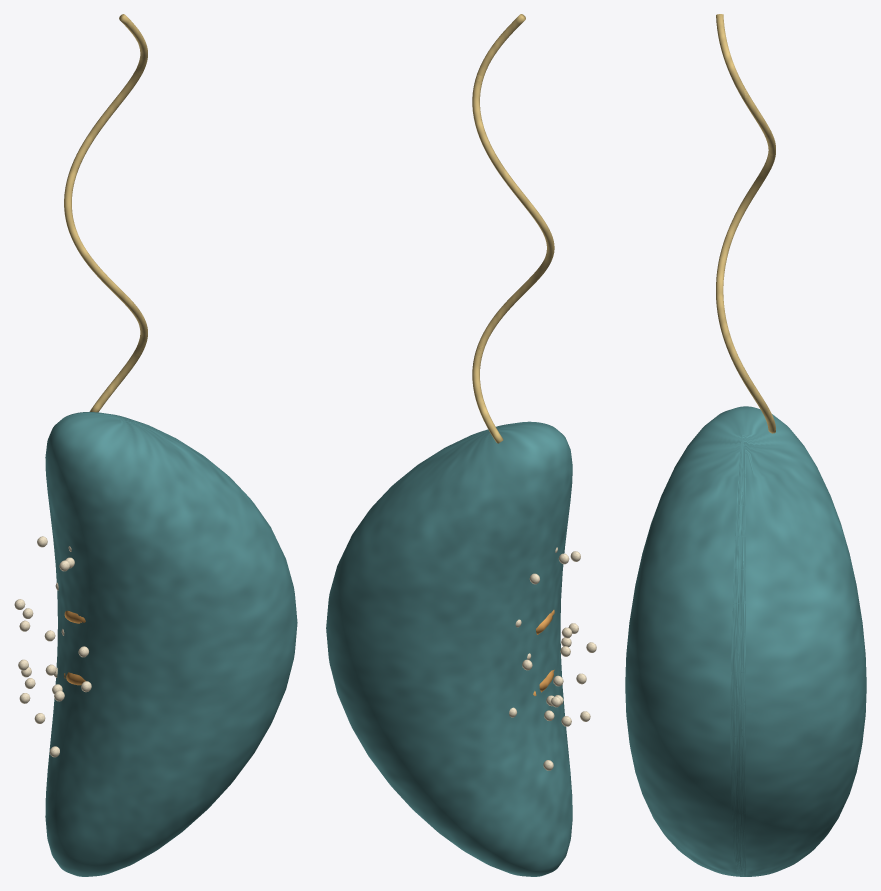
Rendered from complete.glb.
The picture shows the model from 3 angles, left to right: view 1: azimuth 30°, elevation 25°; view 2: azimuth 150°, elevation 25°; view 3: azimuth 270°, elevation 25°; orthographic projection. The views are drawn at different scales.
Parts seen in each view (by area): view 1: externa_mesh, flagelo_mesh, ribossomos_mesh; view 2: externa_mesh, flagelo_mesh, ribossomos_mesh; view 3: externa_mesh, flagelo_mesh.
Boxes of the visible parts, box(x1,y1,x2,y2) form: externa_mesh: box(45, 411, 297, 876); flagelo_mesh: box(64, 14, 147, 412); ribossomos_mesh: box(14, 536, 91, 757); externa_mesh: box(326, 421, 572, 876); flagelo_mesh: box(472, 14, 554, 443); ribossomos_mesh: box(509, 547, 596, 770); externa_mesh: box(625, 406, 866, 876); flagelo_mesh: box(716, 14, 775, 433).
Bounding box in the file's own units: 1.36 × 4.36 × 1.1.
7 materials, 7 textured.
